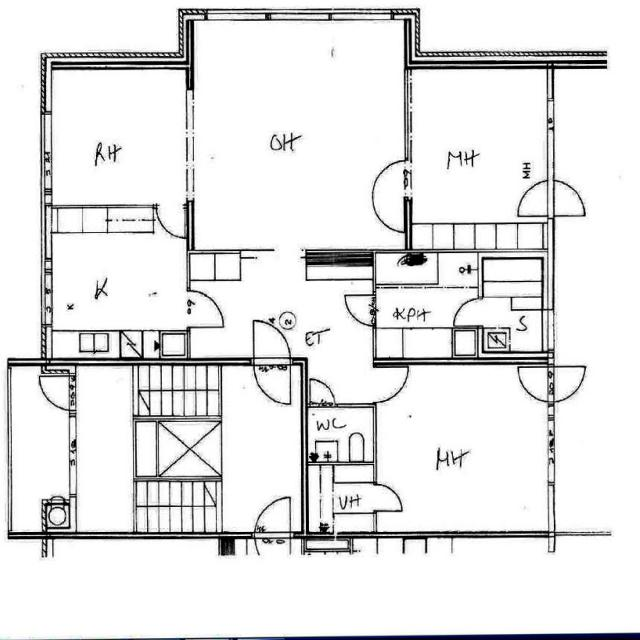door: (253, 359, 290, 404), (253, 320, 290, 365), (548, 366, 588, 402), (514, 366, 554, 402), (371, 161, 408, 197), (187, 292, 224, 328), (515, 181, 554, 215), (548, 181, 586, 215), (373, 367, 409, 401), (345, 294, 376, 324), (156, 205, 184, 238), (452, 298, 483, 326), (373, 485, 401, 511), (310, 377, 334, 407)
